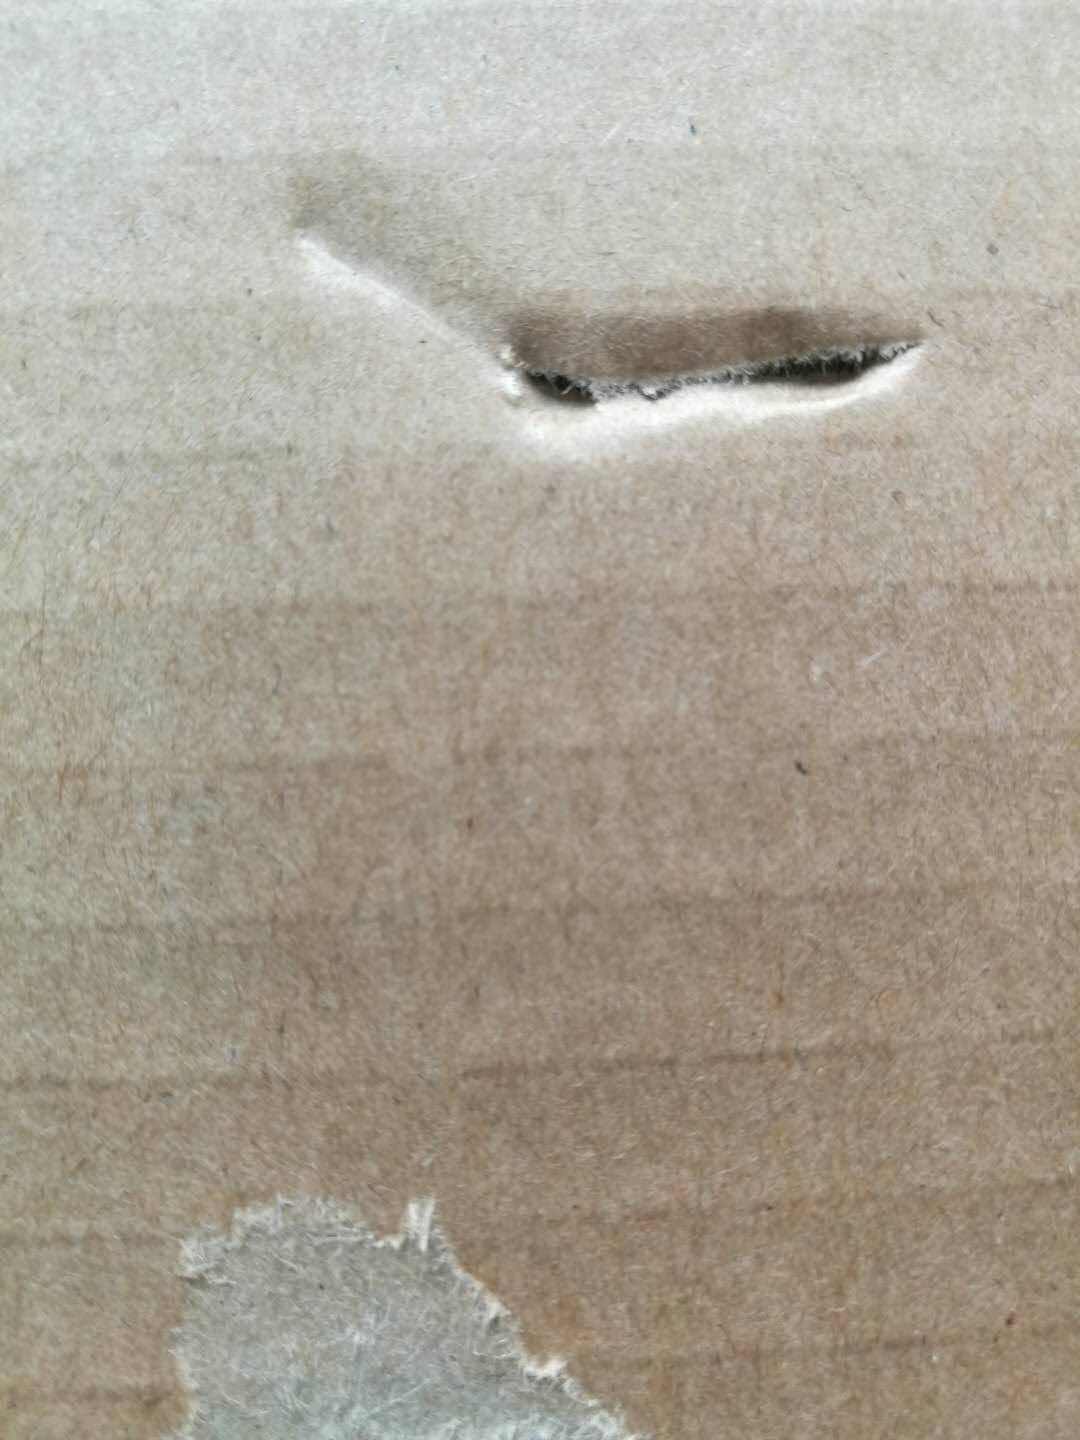defect: (272, 150, 968, 492), (109, 1164, 675, 1440)
